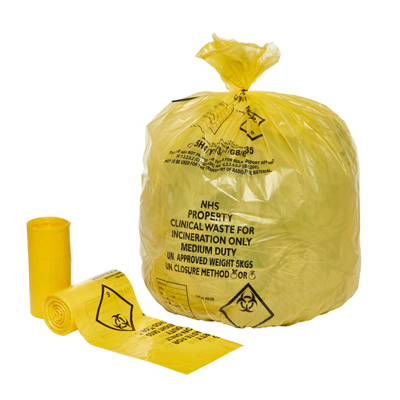plastic_bag: (136, 26, 363, 332), (22, 212, 78, 327)
